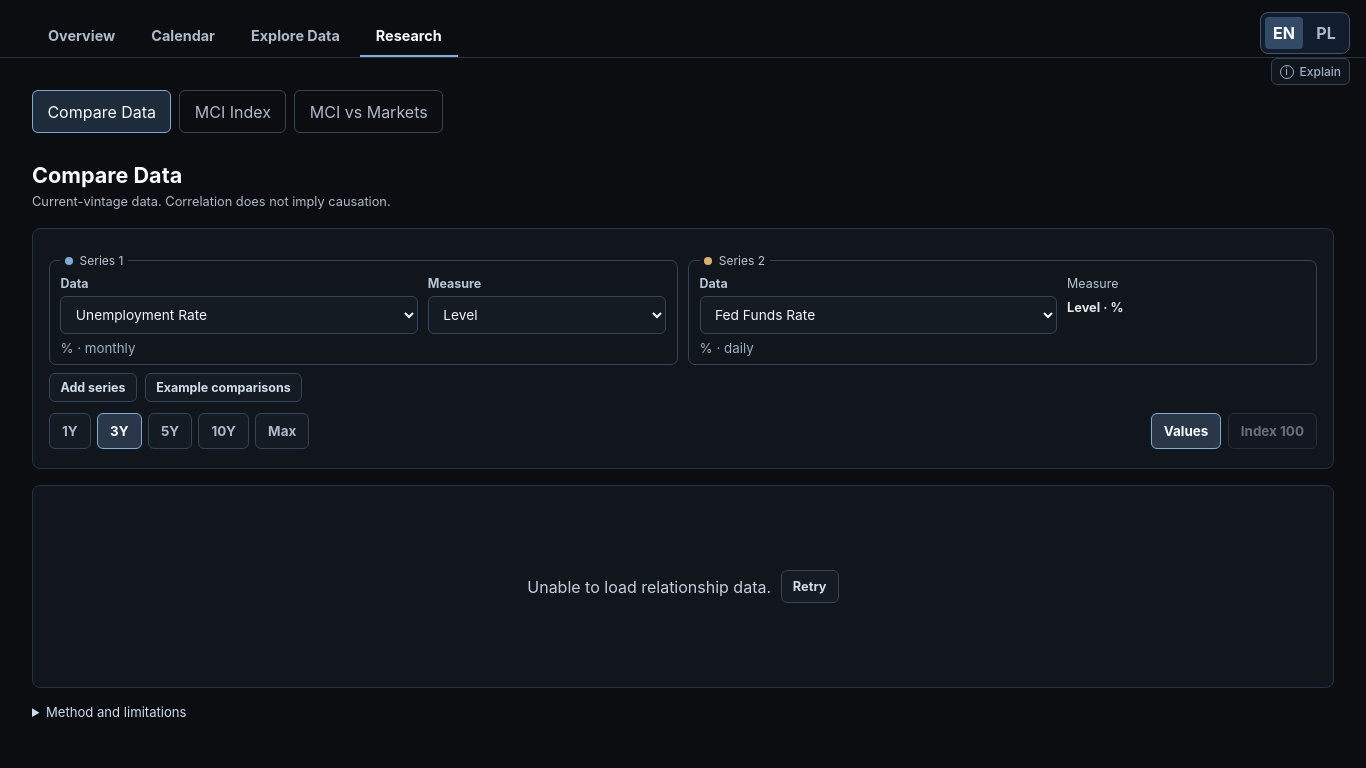
Test: Macro Relationships v1 › API error state can be retried
Expected: the message shows "Unable to load relationship data.", left=527, top=577, right=771, bottom=597
Click the button "Retry": x=810, y=587 left=781, top=570, right=839, bottom=603
(page scrolled)
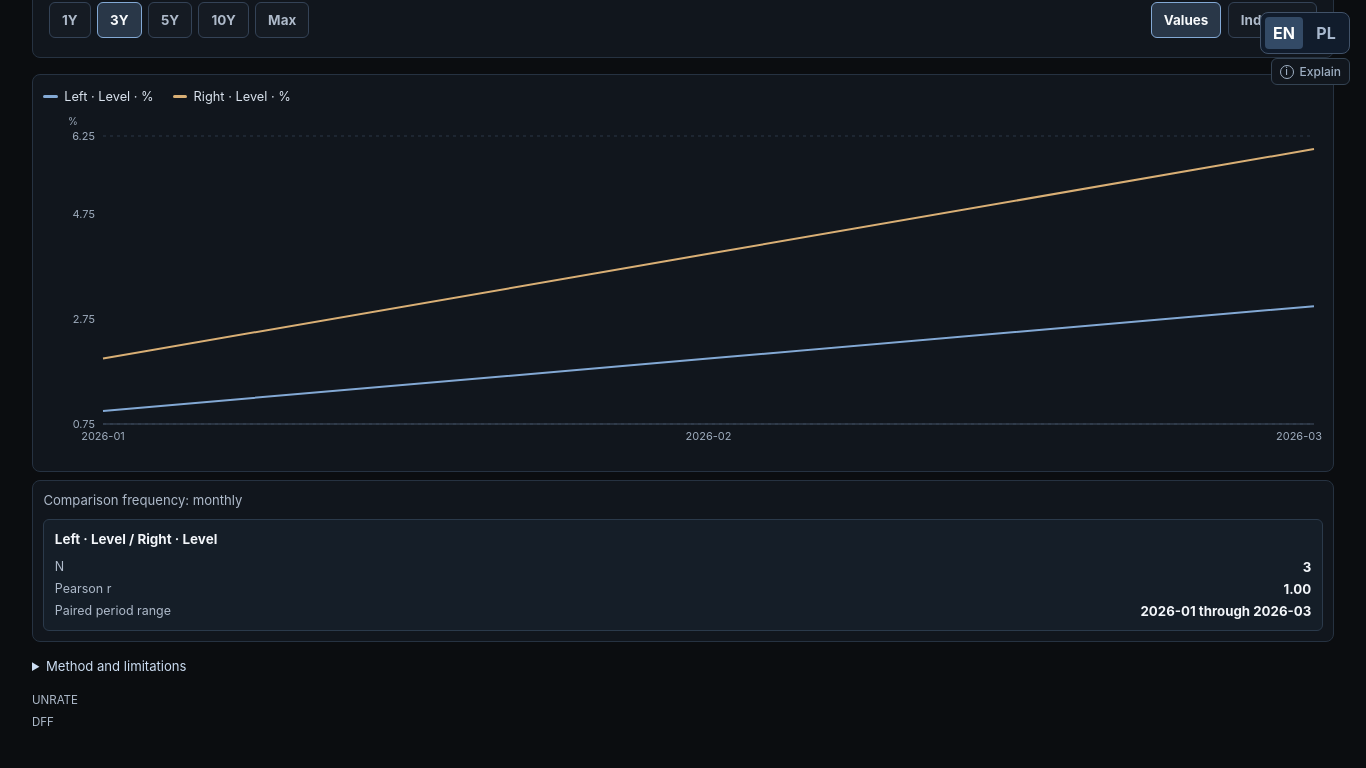
Expected: the element named "Relationship summary" is shown, left=32, top=480, right=1334, bottom=642
